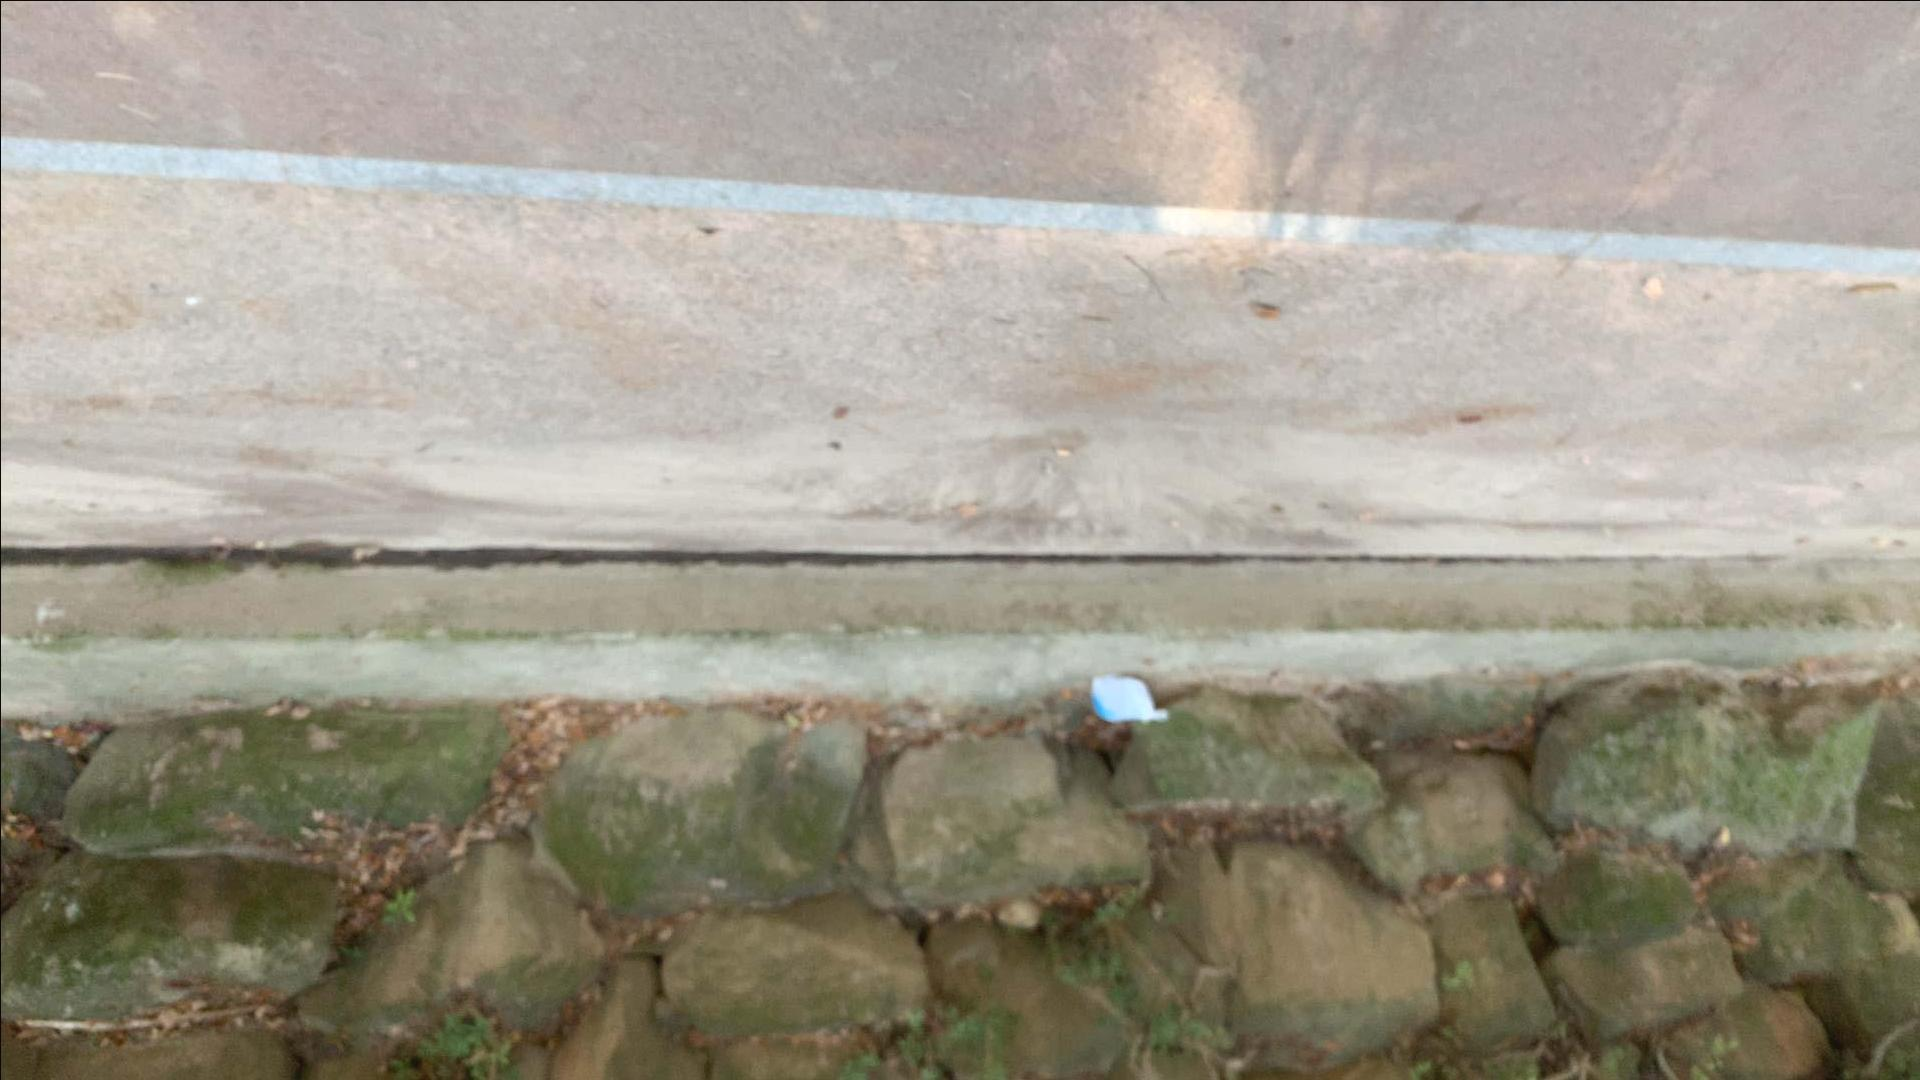white_bag: (1080, 665, 1178, 731)
